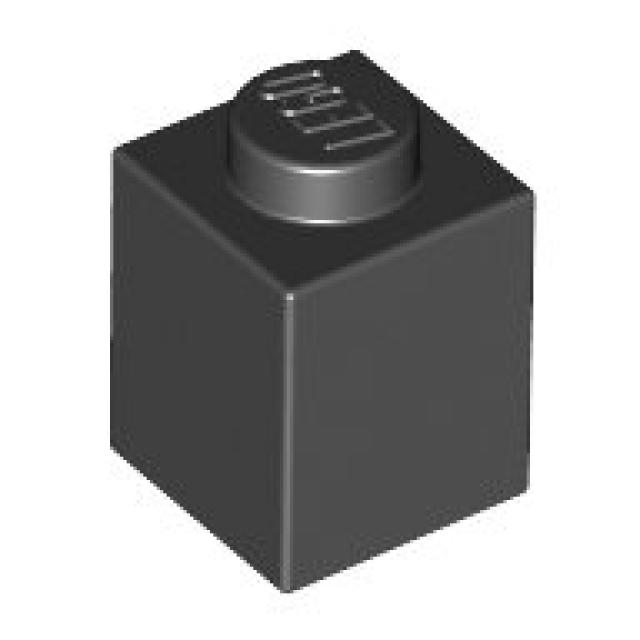Black_Small: (110, 50, 537, 597)
